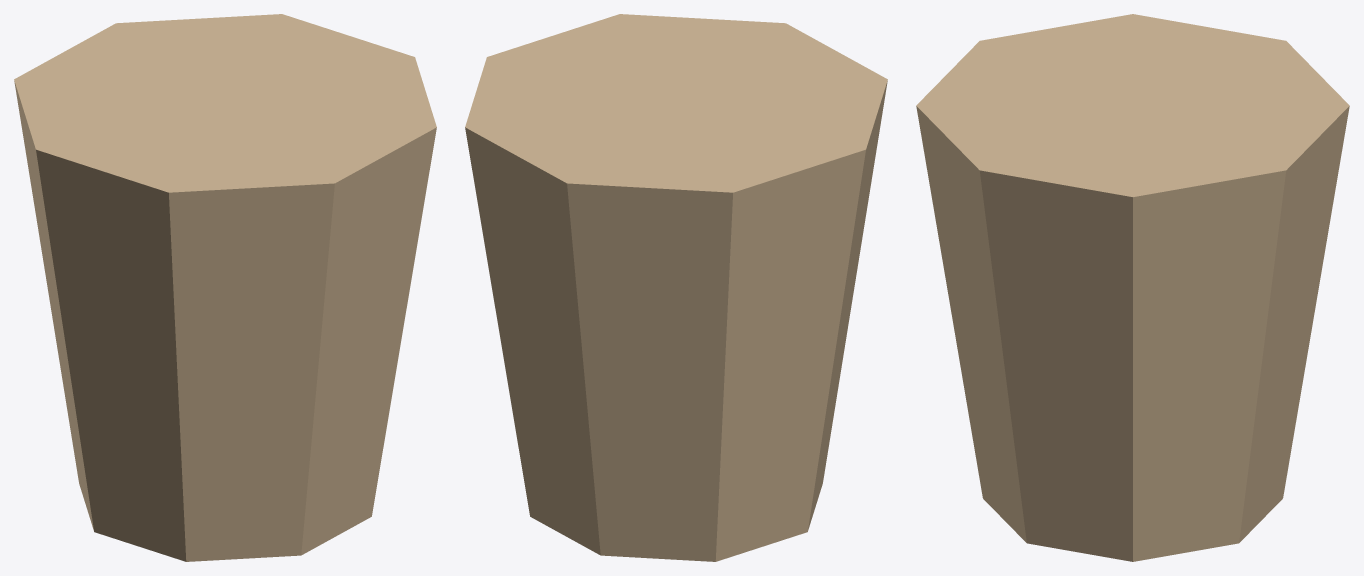
The model's file is prop-inkhorn-stopper-blank.fbx.
3 views of the same model, side by side, from view 1: azimuth 30°, elevation 25°; view 2: azimuth 150°, elevation 25°; view 3: azimuth 270°, elevation 25° (orthographic).
Parts seen in each view (by area): view 1: prop-inkhorn-stopper-blank; view 2: prop-inkhorn-stopper-blank; view 3: prop-inkhorn-stopper-blank.
Boxes of the visible parts, left/top/right/bottom form: prop-inkhorn-stopper-blank: left=14, top=14, right=436, bottom=561; prop-inkhorn-stopper-blank: left=465, top=14, right=887, bottom=561; prop-inkhorn-stopper-blank: left=916, top=14, right=1349, bottom=561.
Size of the model in its own units: 2.6 by 2.6 by 2.6.
